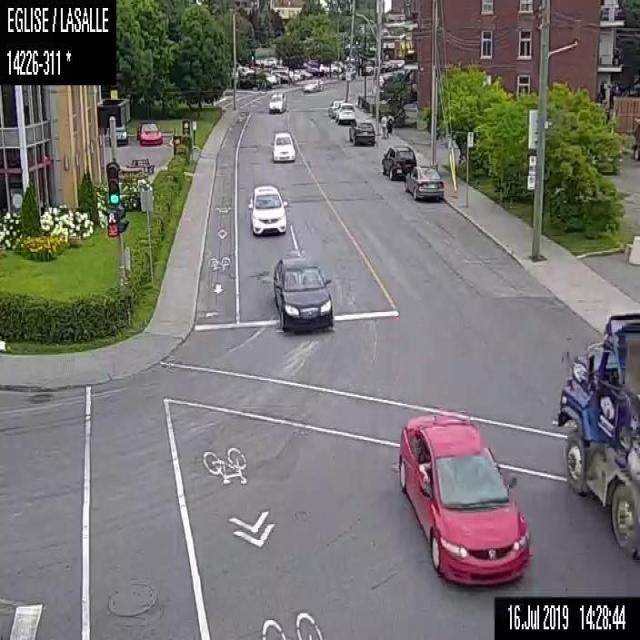pedestrian: (385, 112, 394, 136), (379, 111, 387, 137)
vehicle: (397, 410, 531, 586), (554, 311, 639, 561), (272, 253, 334, 332), (246, 183, 288, 236), (404, 163, 444, 200), (380, 143, 417, 180), (270, 128, 296, 163), (348, 120, 375, 145), (136, 120, 162, 144), (267, 89, 288, 115), (334, 101, 355, 123), (108, 125, 127, 144), (304, 76, 324, 92), (340, 66, 357, 82), (328, 99, 342, 116), (260, 56, 278, 67)
